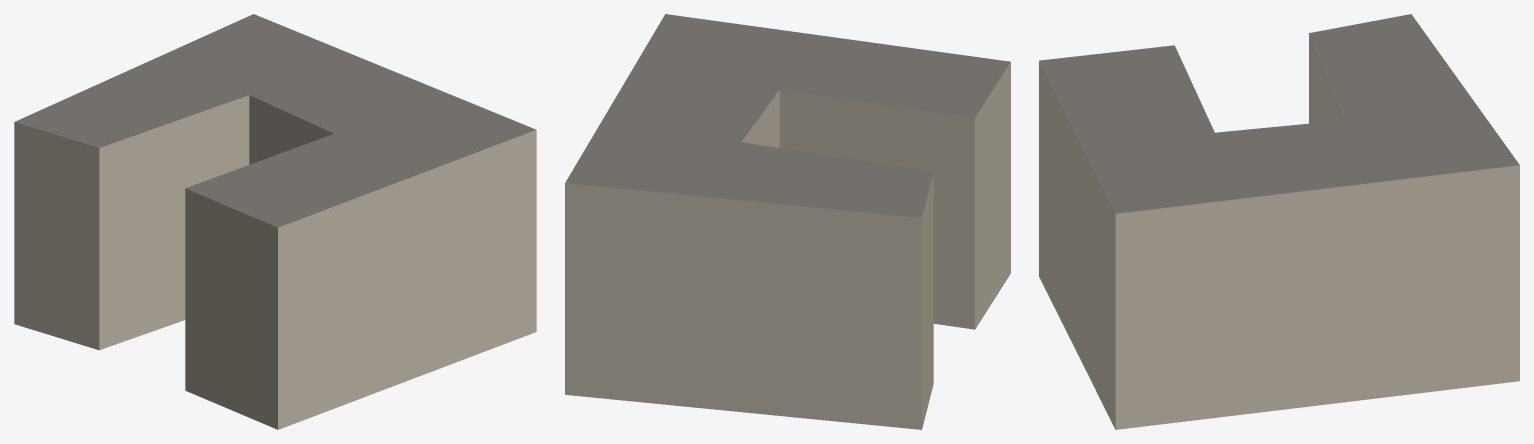
3 views of the same model, side by side, from view 1: azimuth 30°, elevation 25°; view 2: azimuth 150°, elevation 25°; view 3: azimuth 270°, elevation 25° (orthographic). The views are drawn at different scales.
Parts seen in each view (by area): view 1: HP-w378107098; view 2: HP-w378107098; view 3: HP-w378107098.
Part boxes in pixels (bbox=[...]): HP-w378107098: bbox=[14, 14, 536, 429]; HP-w378107098: bbox=[565, 14, 1010, 429]; HP-w378107098: bbox=[1039, 14, 1519, 429].
Size of the model in its own units: 29.77 by 15 by 30.26.
